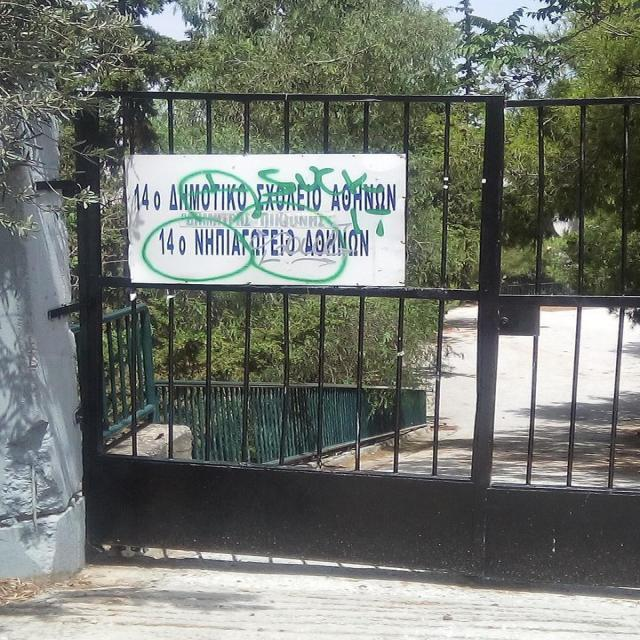nonspitting: (143, 165, 391, 284)
